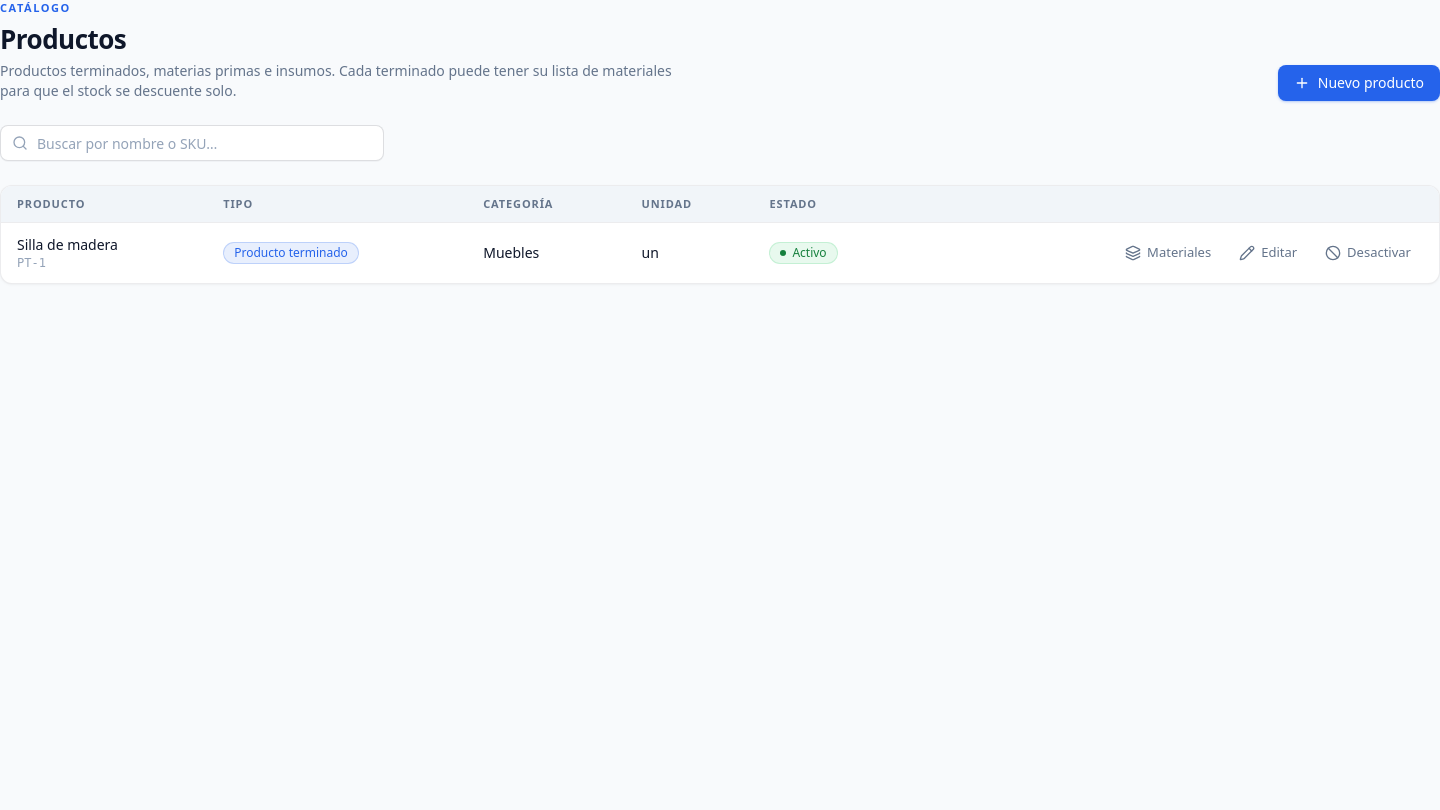
Test: ProductsPage › opens the edit modal pre-filled with the selected product
Click the button "Editar".
click(1268, 253)  # box [1227,237,1309,269]
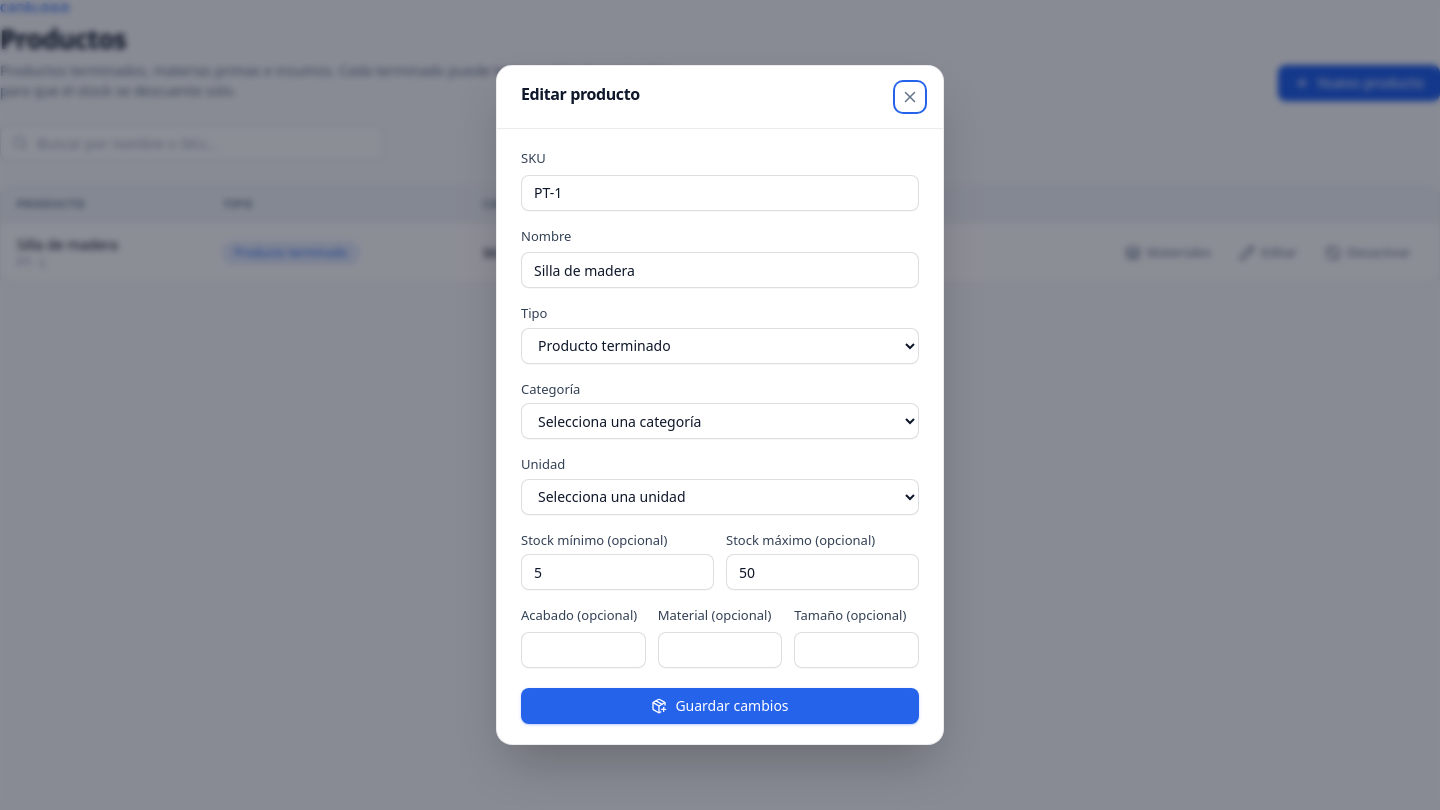
Expected: the dialog "Editar producto" is shown, [496,65,944,745]
Expected: the field labelled "SKU" holds "PT-1", [521,175,919,211]
Expected: the number field labelled "Stock mínimo (opcional)" holds "5", [521,554,714,590]
